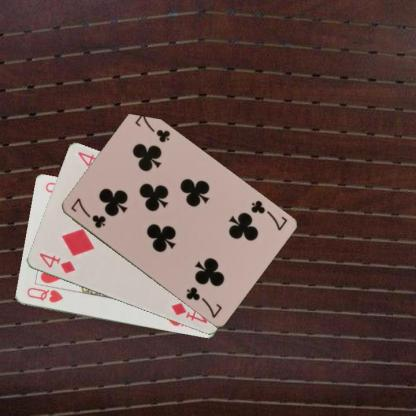4d: (36, 250, 76, 275)
7c: (67, 195, 107, 230), (248, 198, 288, 232)
Qh: (24, 285, 64, 304)
